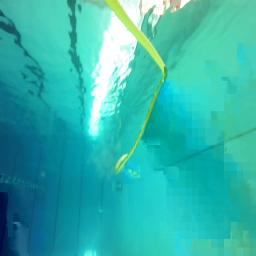Full: (115, 184, 123, 190), (98, 209, 103, 213)
